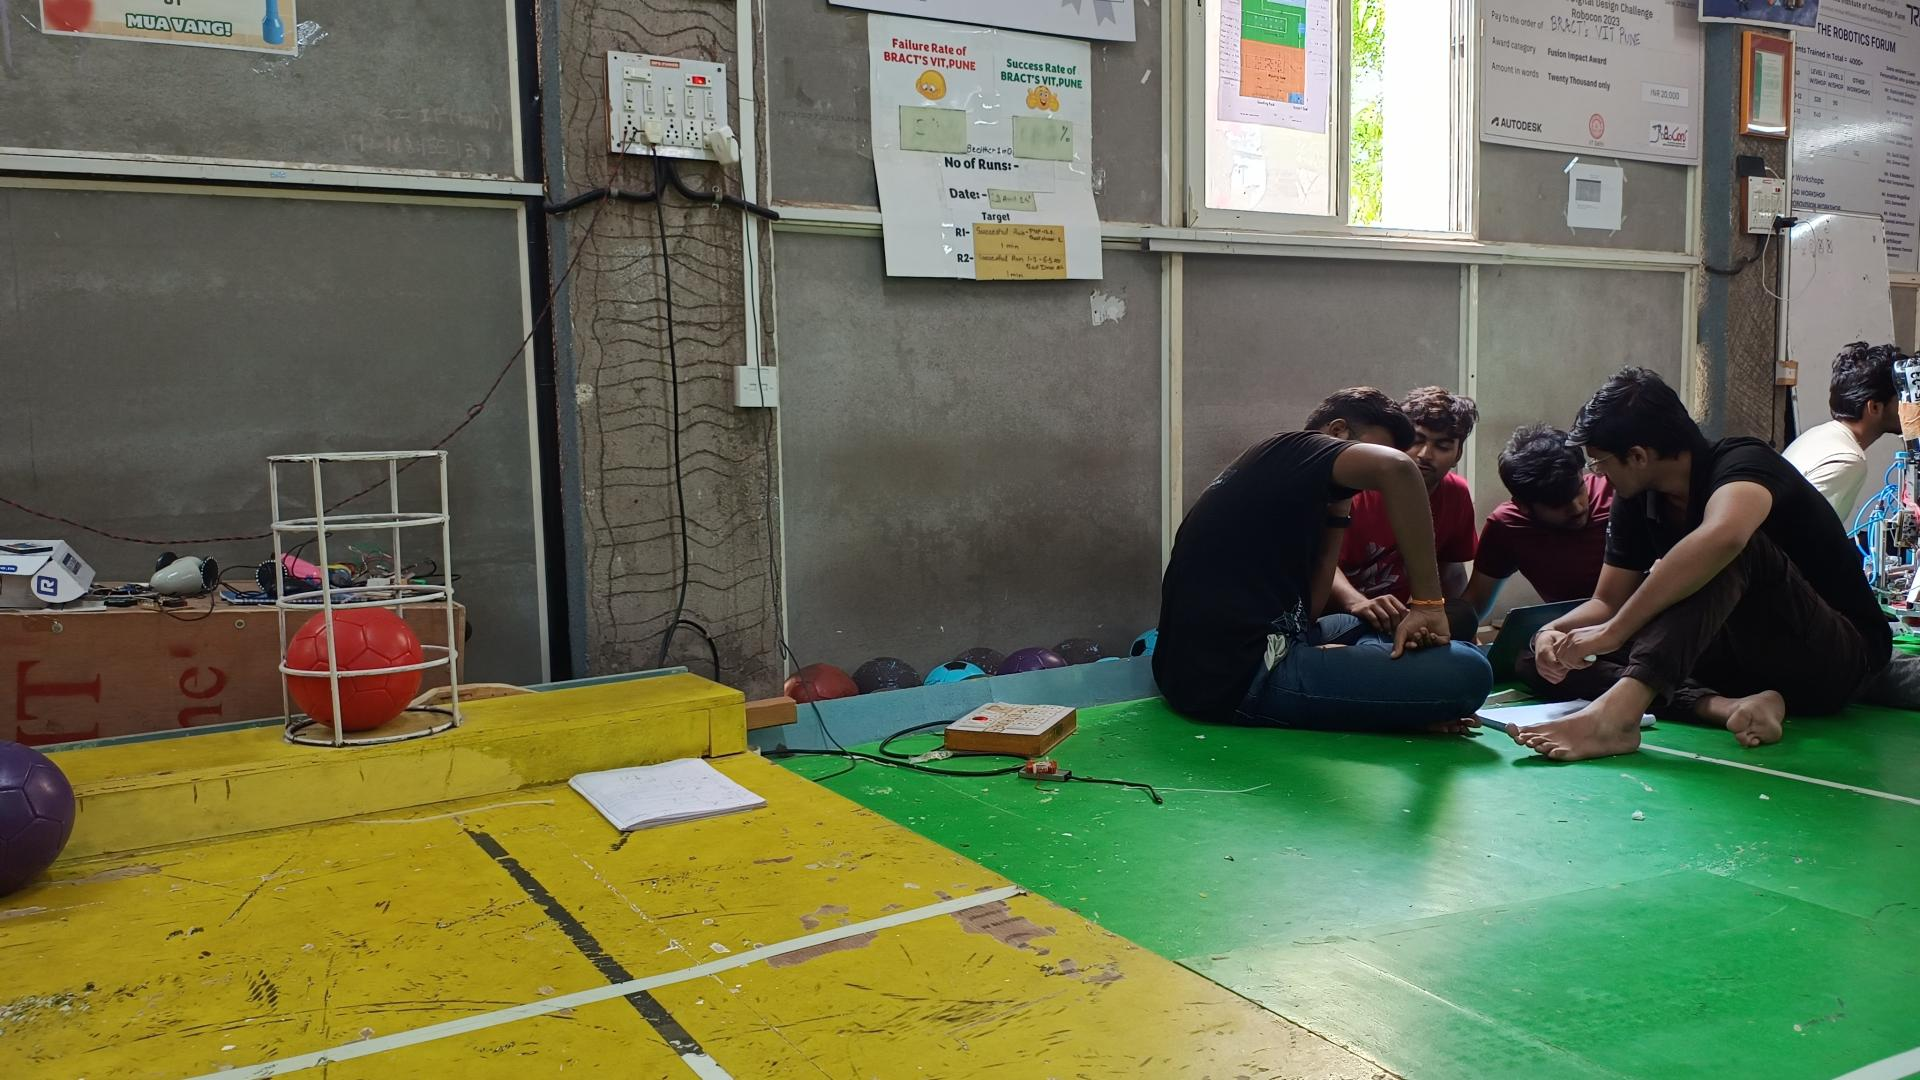laale: (285, 608, 423, 732)
